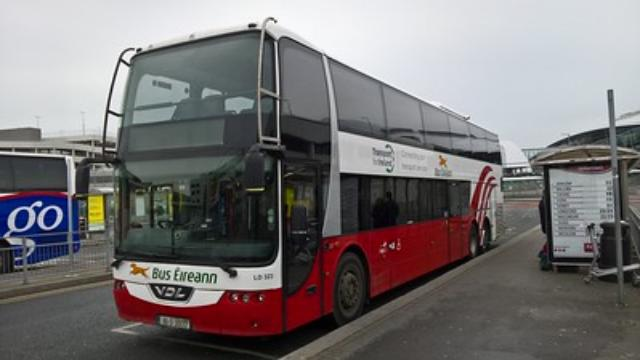bus: (111, 22, 502, 338)
